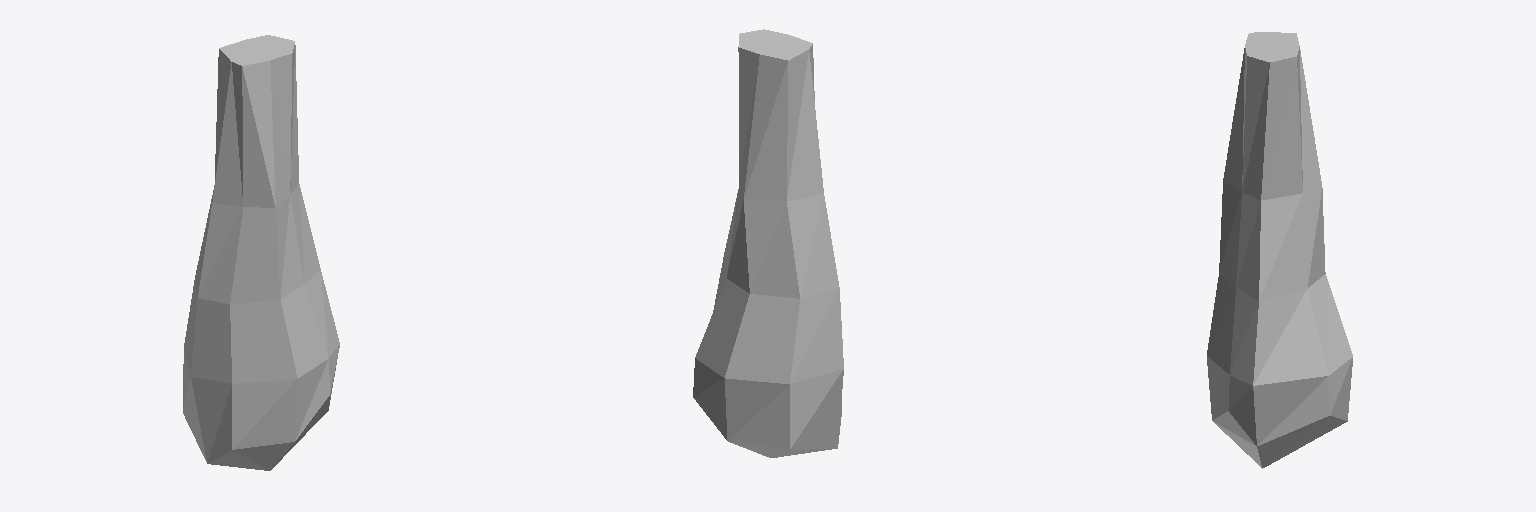
File: model_pillar_2.obj
3 renders of one model, left to right at view 1: azimuth 30°, elevation 25°; view 2: azimuth 150°, elevation 25°; view 3: azimuth 270°, elevation 25°, orthographic.
Parts seen in each view (by area): view 1: obj_pillar_1; view 2: obj_pillar_1; view 3: obj_pillar_1.
Boxes of the visible parts, x1=… form: obj_pillar_1: x1=183, y1=35, x2=339, y2=470; obj_pillar_1: x1=693, y1=29, x2=843, y2=457; obj_pillar_1: x1=1207, y1=32, x2=1352, y2=468.
Size of the model in its own units: 12.59 by 35.77 by 11.32.